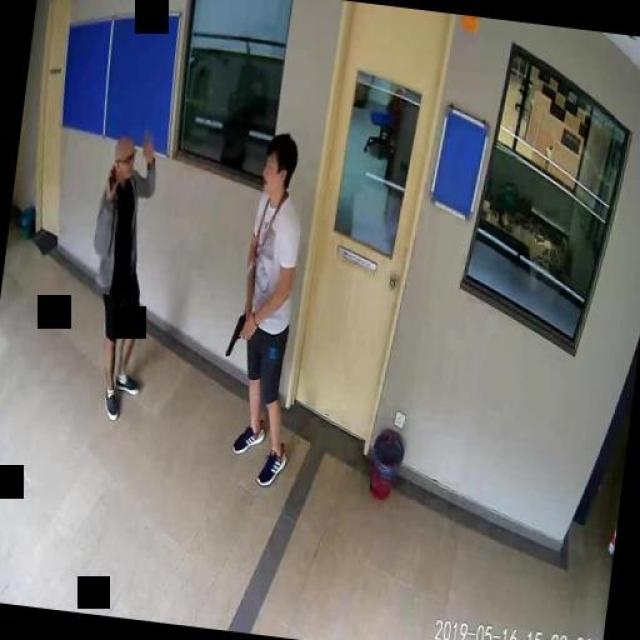gun: (224, 312, 248, 358)
